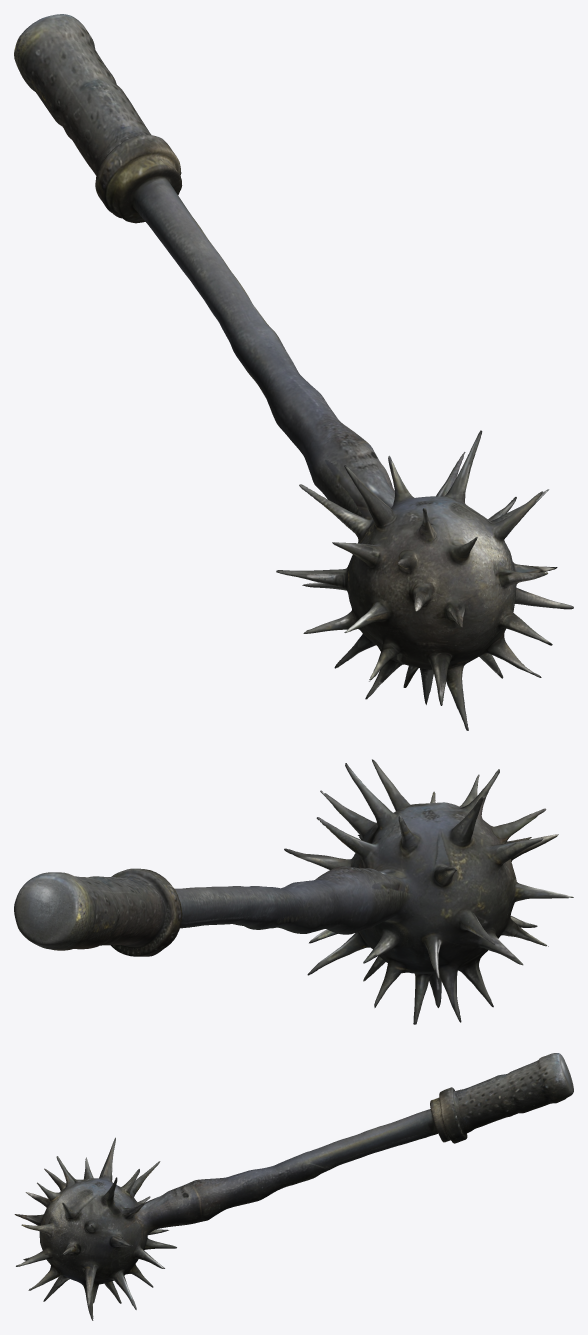
File: A_spiked_club__0825134303_refine.fbx
3 views of the same model, one above another, from view 1: azimuth 30°, elevation 25°; view 2: azimuth 150°, elevation 25°; view 3: azimuth 270°, elevation 25° (orthographic). The views are drawn at different scales.
Parts seen in each view (by area): view 1: Mesh_0; view 2: Mesh_0; view 3: Mesh_0.
Boxes of the visible parts, x1=… form: Mesh_0: x1=14, y1=14, x2=573, y2=730; Mesh_0: x1=14, y1=759, x2=573, y2=1024; Mesh_0: x1=14, y1=1053, x2=573, y2=1320.
Size of the model in its own units: 63.65 by 98.63 by 200.
Materials: 1 (1 with a texture image).
